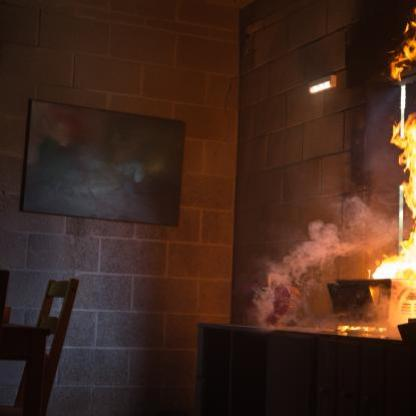fire: (367, 109, 416, 280), (391, 9, 416, 78)
smoke: (236, 194, 407, 336)
